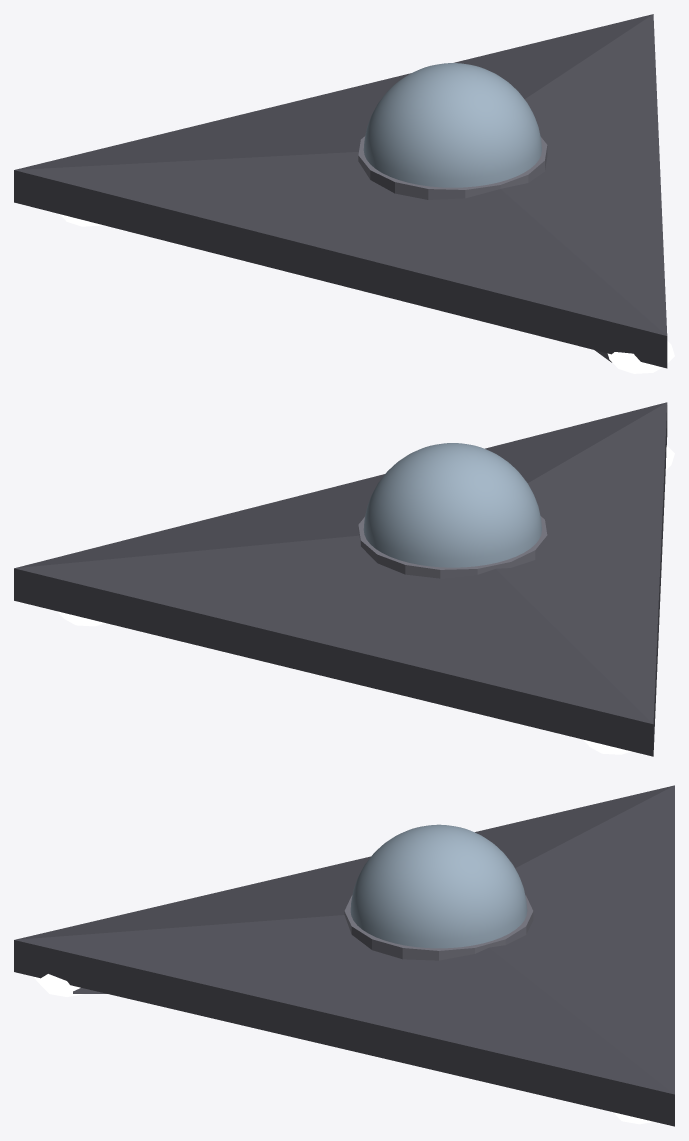
The model's file is triangle.glb.
3 renders of one model, top to bottom at view 1: azimuth 30°, elevation 25°; view 2: azimuth 150°, elevation 25°; view 3: azimuth 270°, elevation 25°, orthographic.
Parts seen in each view (by area): view 1: triangle, dome.002; view 2: triangle, dome.002; view 3: triangle, dome.002.
Part boxes in pixels (x1=…): triangle: x1=14, y1=14, x2=674, y2=373; dome.002: x1=363, y1=63, x2=541, y2=187; triangle: x1=14, y1=402, x2=674, y2=756; dome.002: x1=363, y1=443, x2=541, y2=567; triangle: x1=14, y1=785, x2=674, y2=1126; dome.002: x1=350, y1=824, x2=527, y2=948.
Size of the model in its own units: 6.2 by 1.5 by 5.6.
